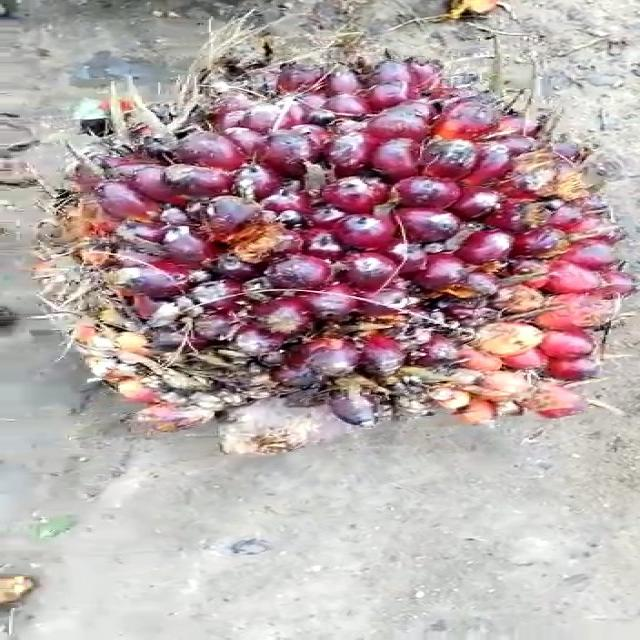palm oil: (33, 59, 631, 455)
